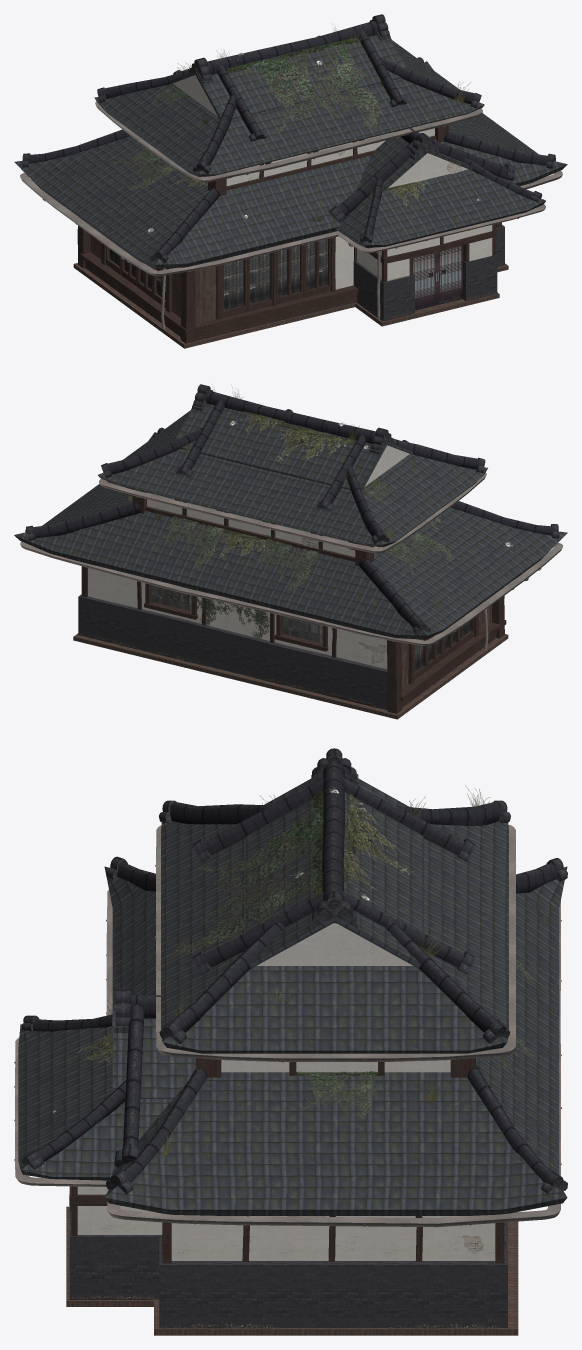
File: masonry_house.glb
3 renders of one model, top to bottom at view 1: azimuth 30°, elevation 25°; view 2: azimuth 150°, elevation 25°; view 3: azimuth 270°, elevation 25°, orthographic. The views are drawn at different scales.
Parts seen in each view (by area): view 1: MainHouse_01_geo; view 2: MainHouse_01_geo; view 3: MainHouse_01_geo.
Part boxes in pixels (x1,y1,x2,y2): MainHouse_01_geo: (14, 14, 567, 348); MainHouse_01_geo: (14, 384, 567, 719); MainHouse_01_geo: (14, 748, 567, 1335).
Size of the model in its own units: 15.2 by 8.29 by 10.71.
13 materials, 13 textured.
